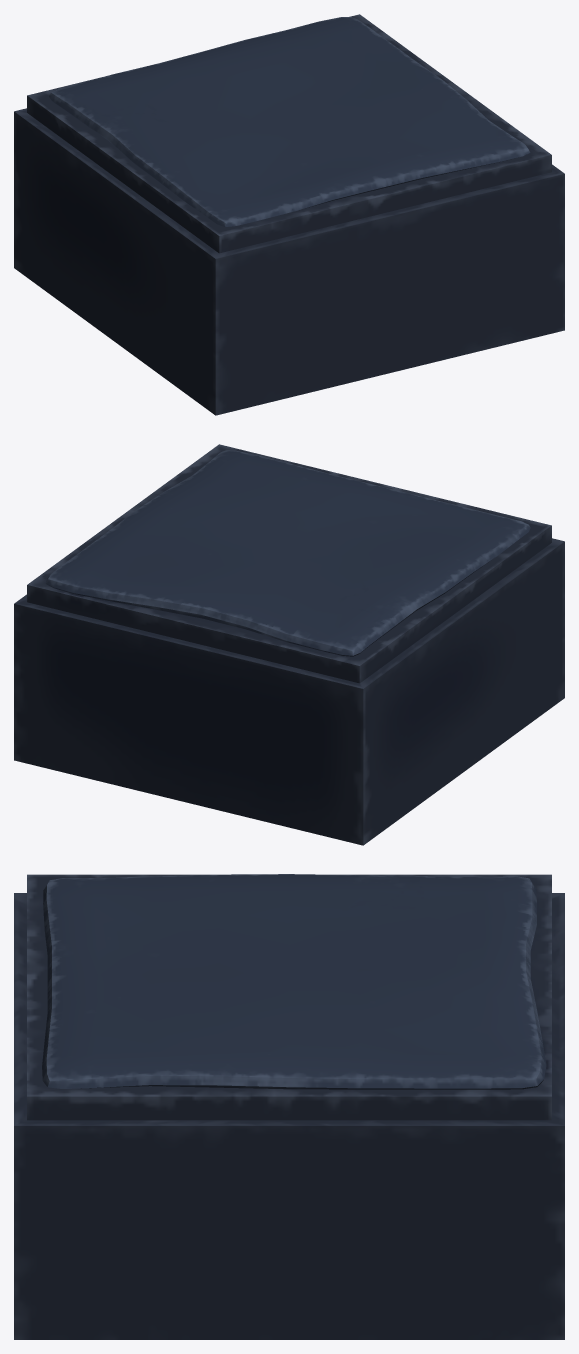
The model's file is Floor1-6.fbx.
The picture shows the model from 3 angles, top to bottom: view 1: azimuth 30°, elevation 25°; view 2: azimuth 150°, elevation 25°; view 3: azimuth 270°, elevation 25°; orthographic projection. The views are drawn at different scales.
Parts seen in each view (by area): view 1: FloorTileB2; view 2: FloorTileB2; view 3: FloorTileB2.
Part boxes in pixels (x1,y1,x2,y2): FloorTileB2: [14, 14, 564, 415]; FloorTileB2: [14, 444, 564, 845]; FloorTileB2: [14, 874, 564, 1339].
Size of the model in its own units: 2.1 by 1.08 by 2.1.
